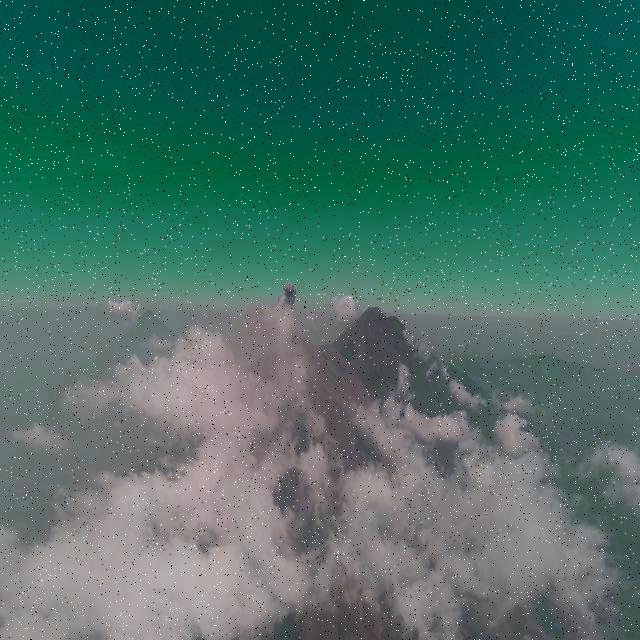Plume: (278, 281, 298, 313)
